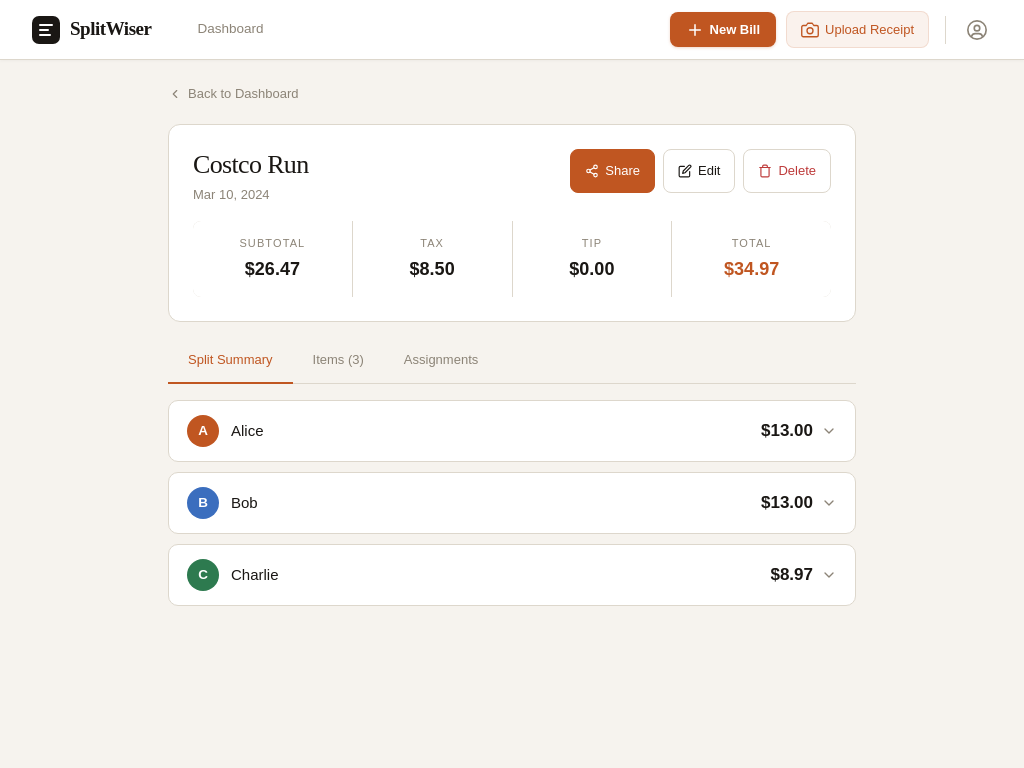
Bill Detail Page › expands person card on click to show item breakdown
expect the text "Alice" is shown: met, box [231, 420, 264, 442]
// Click on Alice's header
Click the element with test id "person-header-p-1" at (203, 431), box [187, 415, 837, 447]
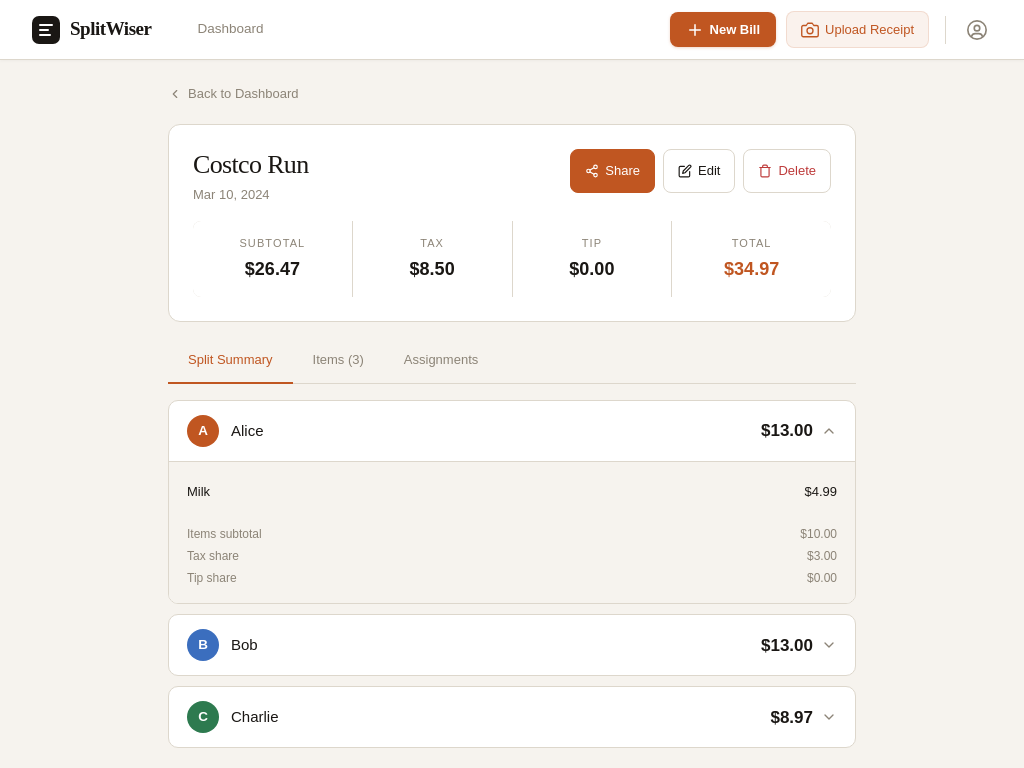
expect the element with test id "person-detail-p-1" is shown: met, box [169, 461, 855, 603]
expect the text "Items subtotal" is shown: met, box [187, 526, 262, 542]
expect the text "Tax share" is shown: met, box [187, 548, 239, 564]
